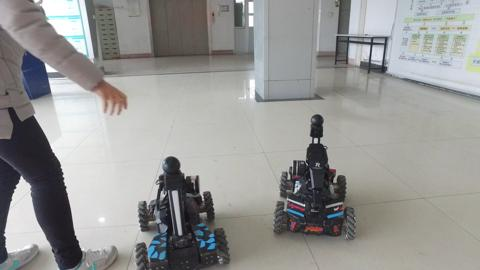chariot: (128, 152, 238, 270), (275, 112, 363, 244)
